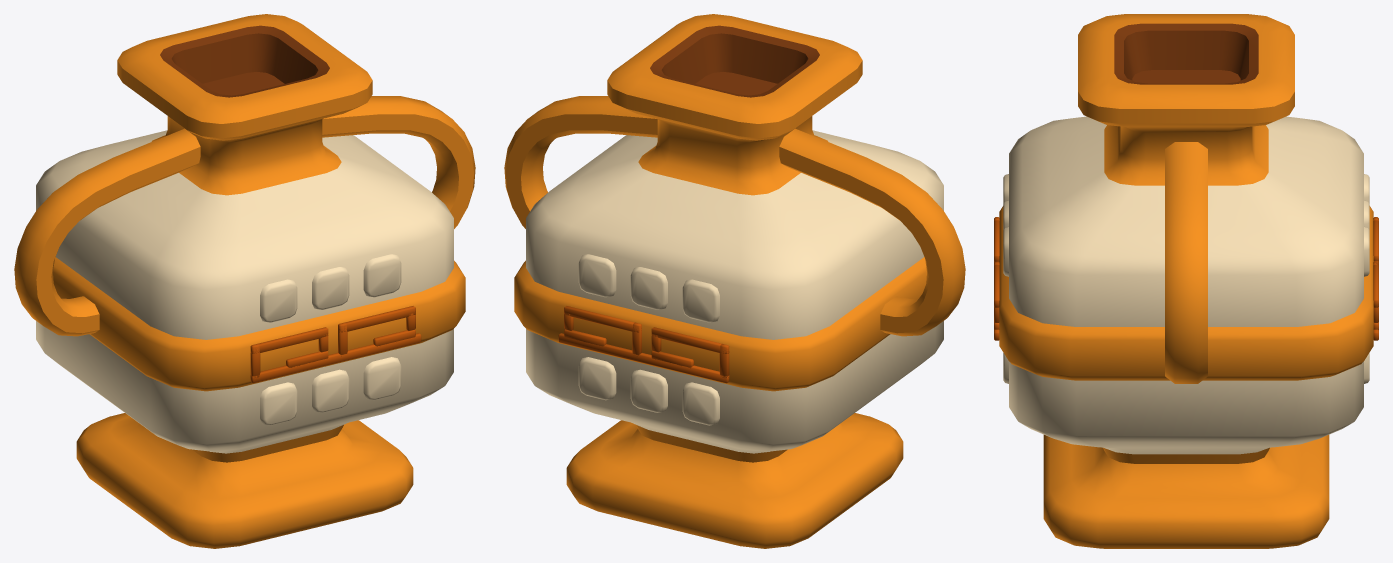
Rendered from ArtV4_MeanderAmphora.fbx.
3 views of the same model, side by side, from view 1: azimuth 30°, elevation 25°; view 2: azimuth 150°, elevation 25°; view 3: azimuth 270°, elevation 25° (orthographic). The views are drawn at different scales.
Parts seen in each view (by area): view 1: Art_MeanderAmphora_F28A1E, Art_MeanderAmphora_F7DEB2, Art_MeanderAmphora_7A3A12, Art_MeanderAmphora_C2560E; view 2: Art_MeanderAmphora_F28A1E, Art_MeanderAmphora_F7DEB2, Art_MeanderAmphora_7A3A12, Art_MeanderAmphora_C2560E; view 3: Art_MeanderAmphora_F7DEB2, Art_MeanderAmphora_F28A1E, Art_MeanderAmphora_7A3A12, Art_MeanderAmphora_C2560E.
Part boxes in pixels (bbox=[...]): Art_MeanderAmphora_F28A1E: bbox=[14, 14, 475, 548]; Art_MeanderAmphora_F7DEB2: bbox=[36, 130, 453, 453]; Art_MeanderAmphora_7A3A12: bbox=[160, 25, 329, 97]; Art_MeanderAmphora_C2560E: bbox=[250, 306, 421, 383]; Art_MeanderAmphora_F28A1E: bbox=[504, 14, 965, 548]; Art_MeanderAmphora_F7DEB2: bbox=[526, 130, 943, 453]; Art_MeanderAmphora_7A3A12: bbox=[650, 25, 819, 97]; Art_MeanderAmphora_C2560E: bbox=[558, 306, 729, 383]; Art_MeanderAmphora_F7DEB2: bbox=[1003, 116, 1369, 454]; Art_MeanderAmphora_F28A1E: bbox=[999, 14, 1373, 548]; Art_MeanderAmphora_7A3A12: bbox=[1114, 23, 1258, 84]; Art_MeanderAmphora_C2560E: bbox=[994, 217, 1378, 340].
Bounding box in the file's own units: 3.3 × 2.96 × 2.34.
